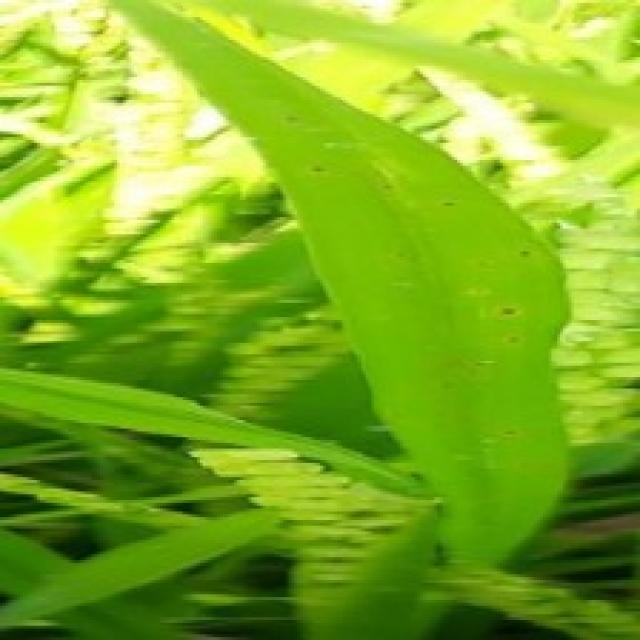Rice___Brown_Spot: (107, 0, 579, 572)
